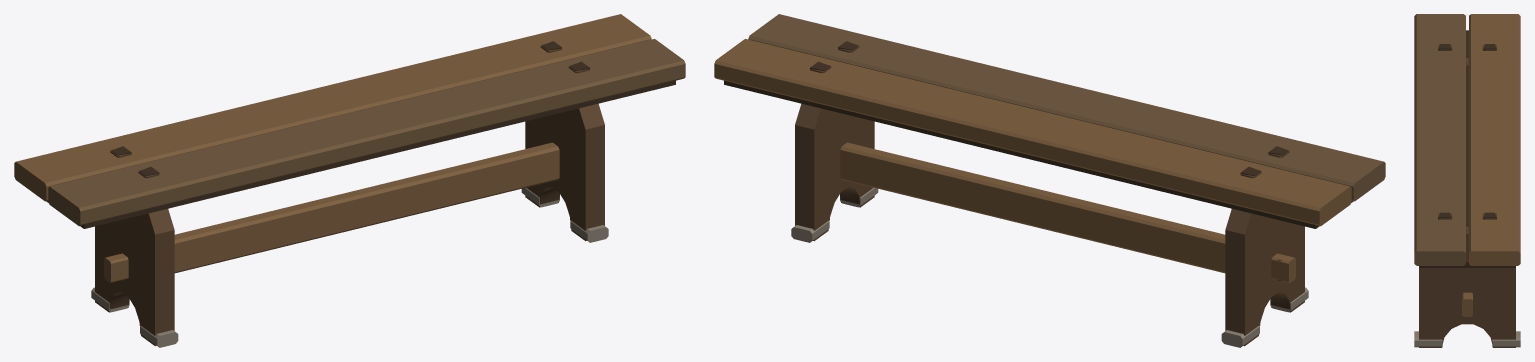
File: SM_LPD_Furn_BenchPlank_01.fbx
3 views of the same model, side by side, from view 1: azimuth 30°, elevation 25°; view 2: azimuth 150°, elevation 25°; view 3: azimuth 270°, elevation 25° (orthographic). The views are drawn at different scales.
Parts seen in each view (by area): view 1: SM_LPD_Furn_BenchPlank_01; view 2: SM_LPD_Furn_BenchPlank_01; view 3: SM_LPD_Furn_BenchPlank_01.
Boxes of the visible parts, box(x1,y1,x2,y2) form: SM_LPD_Furn_BenchPlank_01: box(14, 14, 685, 347); SM_LPD_Furn_BenchPlank_01: box(714, 14, 1385, 347); SM_LPD_Furn_BenchPlank_01: box(1414, 14, 1520, 347).
Size of the model in its own units: 1.8 by 0.4573 by 0.34.
